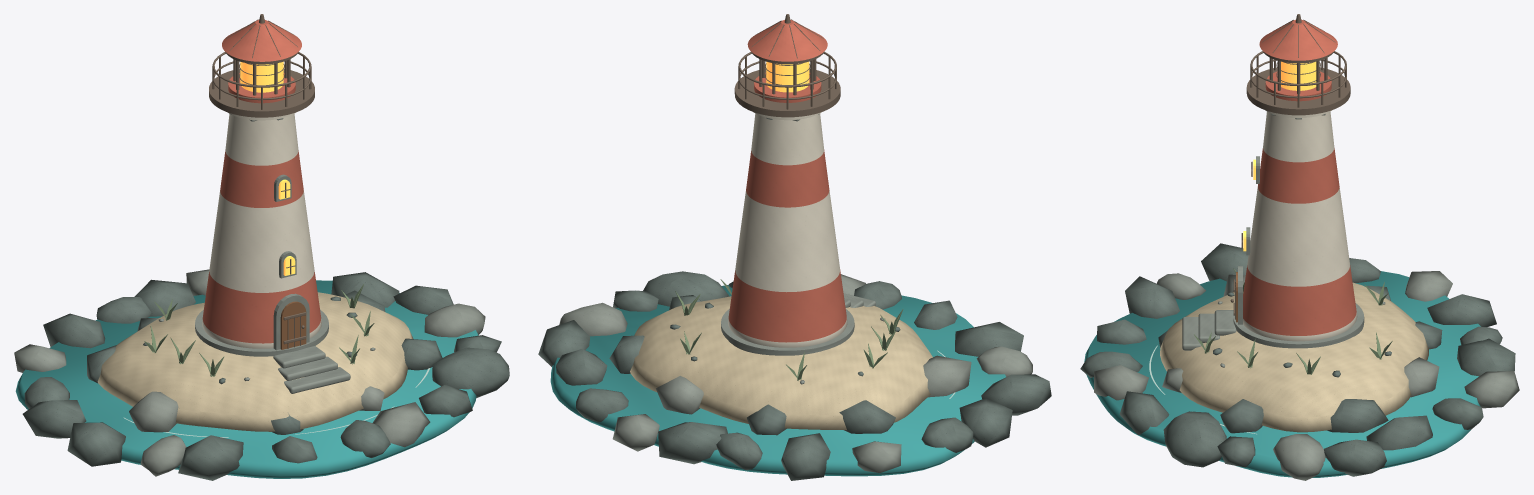
The model's file is lighthouse-island-v6.fbx.
3 views of the same model, side by side, from view 1: azimuth 30°, elevation 25°; view 2: azimuth 150°, elevation 25°; view 3: azimuth 270°, elevation 25° (orthographic). The views are drawn at different scales.
Visible parts, largest first — view 1: Lighthouse | collectible export; view 2: Lighthouse | collectible export; view 3: Lighthouse | collectible export.
Part boxes in pixels (bbox=[...]): Lighthouse | collectible export: bbox=[14, 14, 509, 480]; Lighthouse | collectible export: bbox=[538, 14, 1051, 480]; Lighthouse | collectible export: bbox=[1080, 14, 1519, 480].
Size of the model in its own units: 189 by 151 by 162.
Materials: 11 (5 with a texture image).
